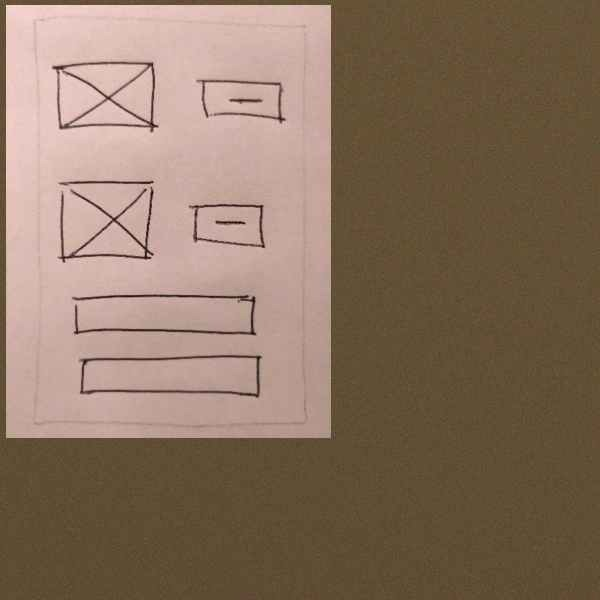button: (193, 71, 292, 129), (184, 194, 272, 255)
image: (54, 175, 158, 269), (50, 59, 169, 140)
text_input: (67, 284, 259, 341), (72, 352, 265, 402)
